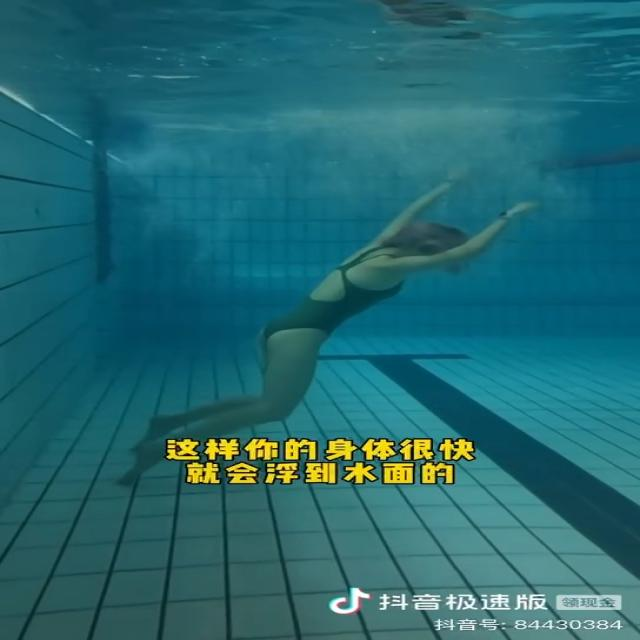Drowning: (118, 158, 532, 490)
